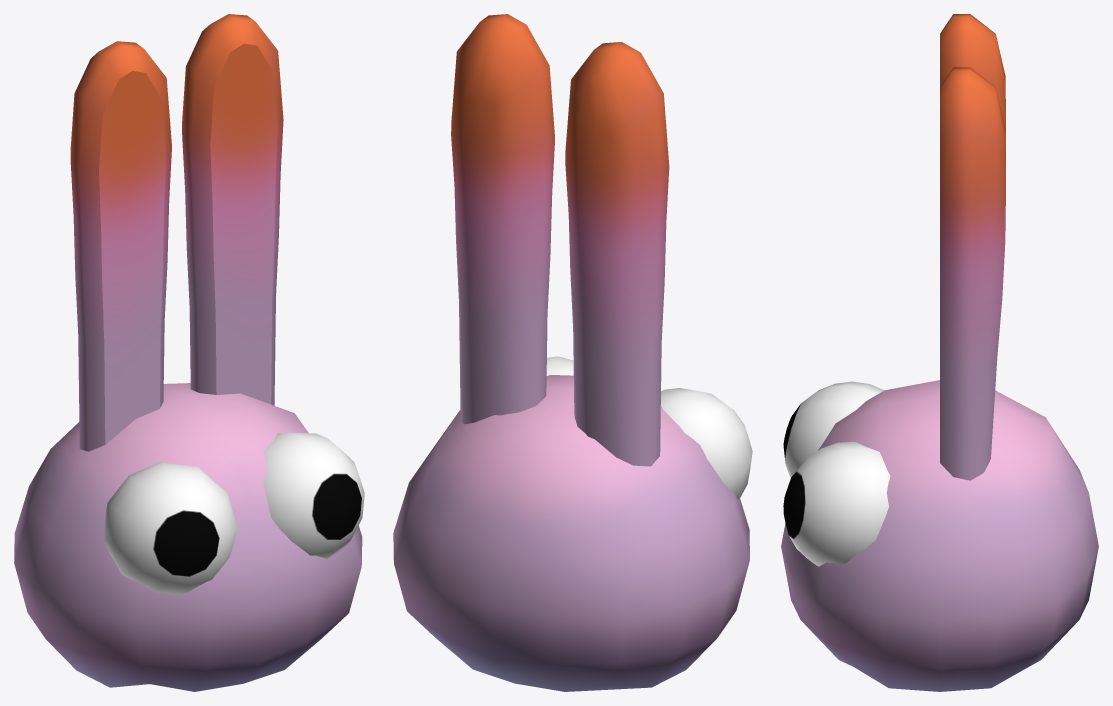
The model's file is enemy02_01.fbx.
3 renders of one model, left to right at view 1: azimuth 30°, elevation 25°; view 2: azimuth 150°, elevation 25°; view 3: azimuth 270°, elevation 25°, orthographic. The views are drawn at different scales.
Visible parts, largest first — view 1: polySurface3; view 2: polySurface3; view 3: polySurface3.
Part boxes in pixels (bbox=[...]): polySurface3: bbox=[14, 14, 364, 691]; polySurface3: bbox=[393, 14, 752, 691]; polySurface3: bbox=[781, 14, 1098, 691].
Size of the model in its own units: 104 by 196 by 93.97.
1 material, 1 textured.
